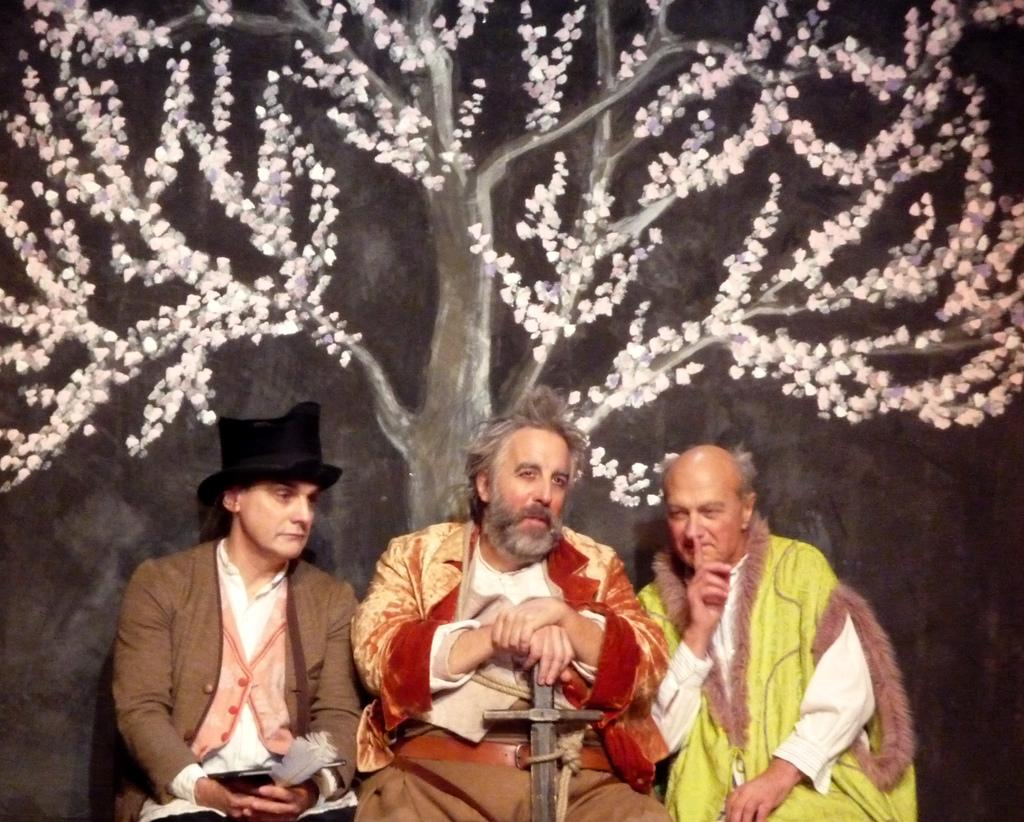Hat: (190, 400, 344, 502)
